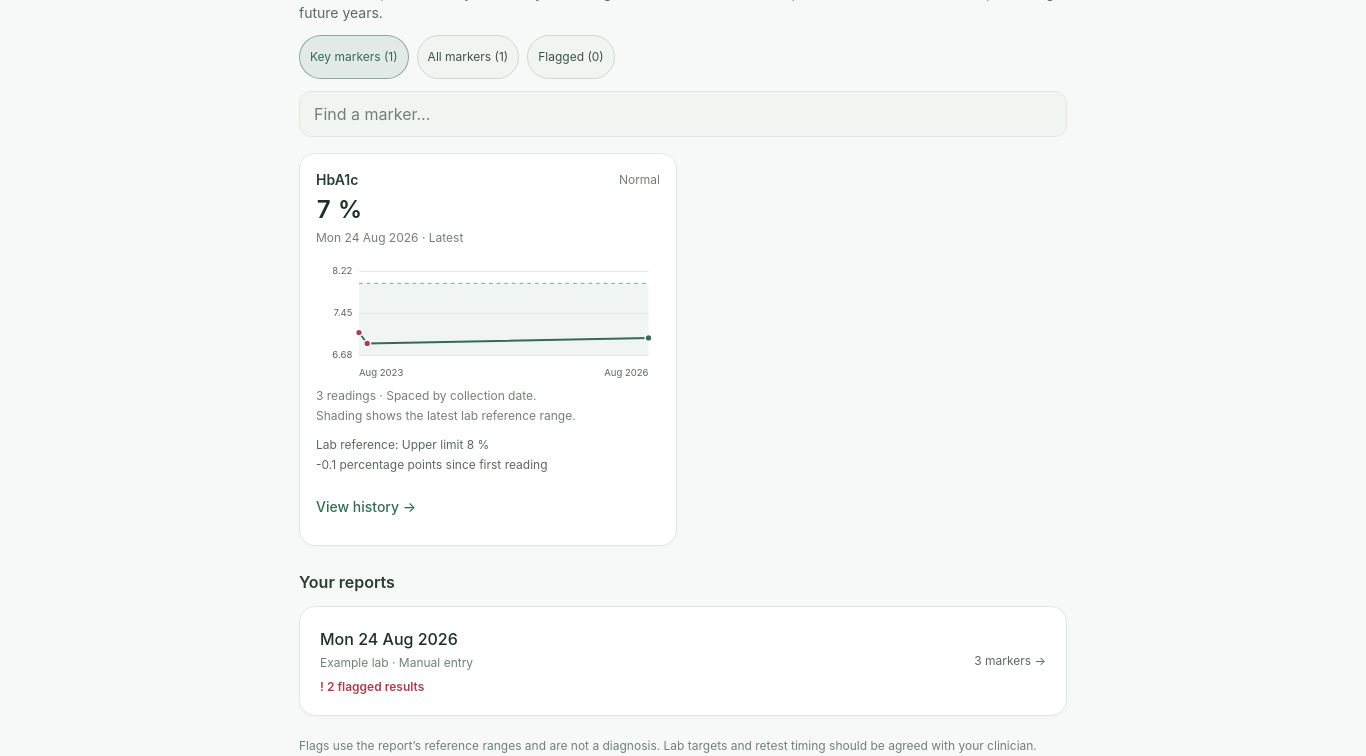
Scenario: multi-year lines use calendar spacing and older readings retain their own lab ranges
(page scrolled)
expect the text "-0.1 percentage points since first reading" is shown: met, box left=316, top=457, right=548, bottom=472
Click the button with aria-label "View HbA1c history": (366,507) left=316, top=485, right=416, bottom=529
(page scrolled)
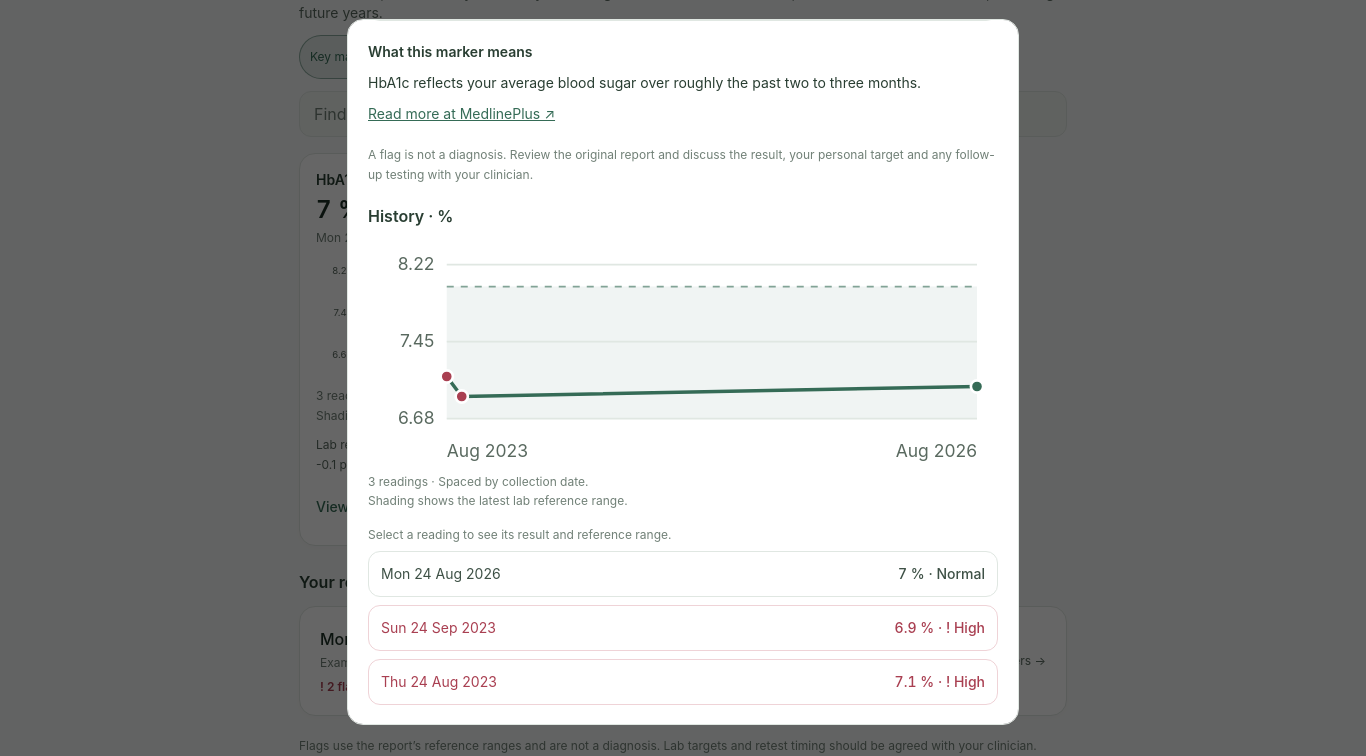
Click the button "Thu 24 Aug 2023 7.1 % · ! High": (439,681) left=368, top=659, right=998, bottom=705
(page scrolled)
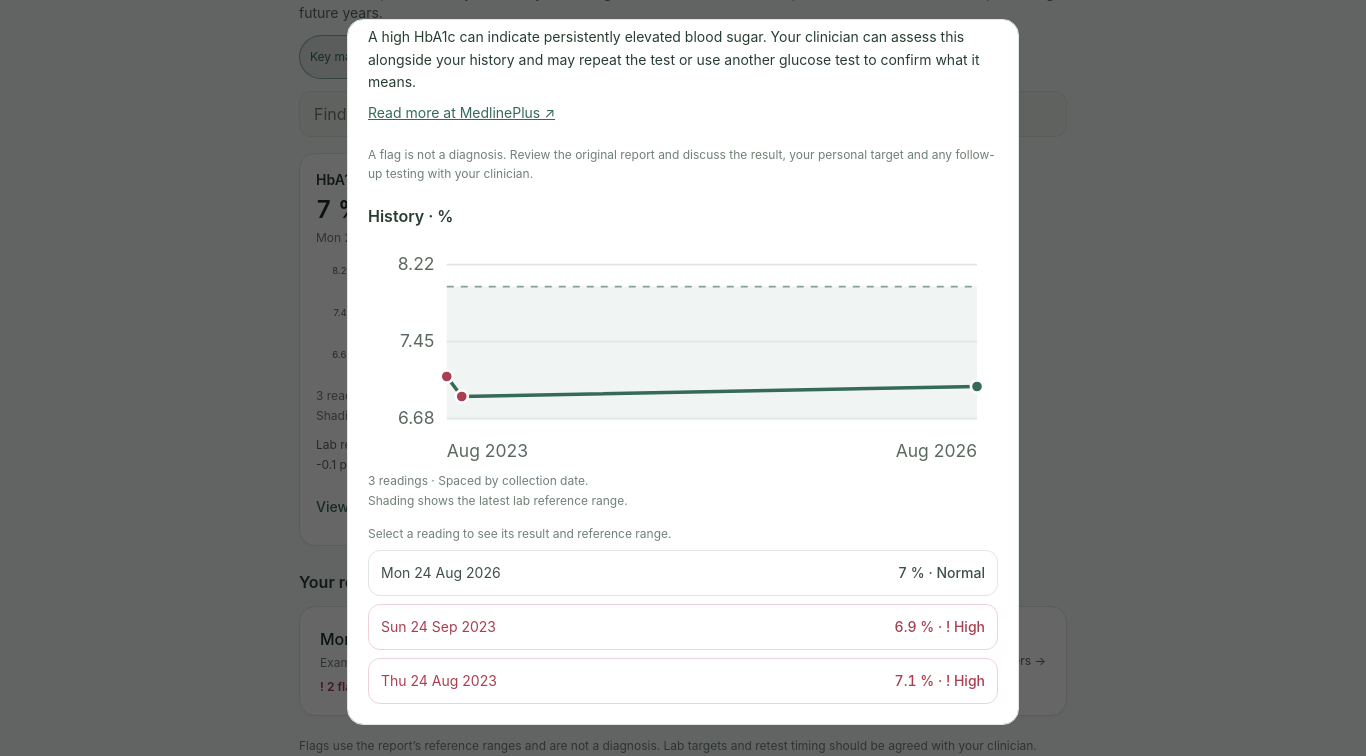
Click the button "Mon 24 Aug 2026 7 % · Normal": (441,573) left=368, top=550, right=998, bottom=596
(page scrolled)
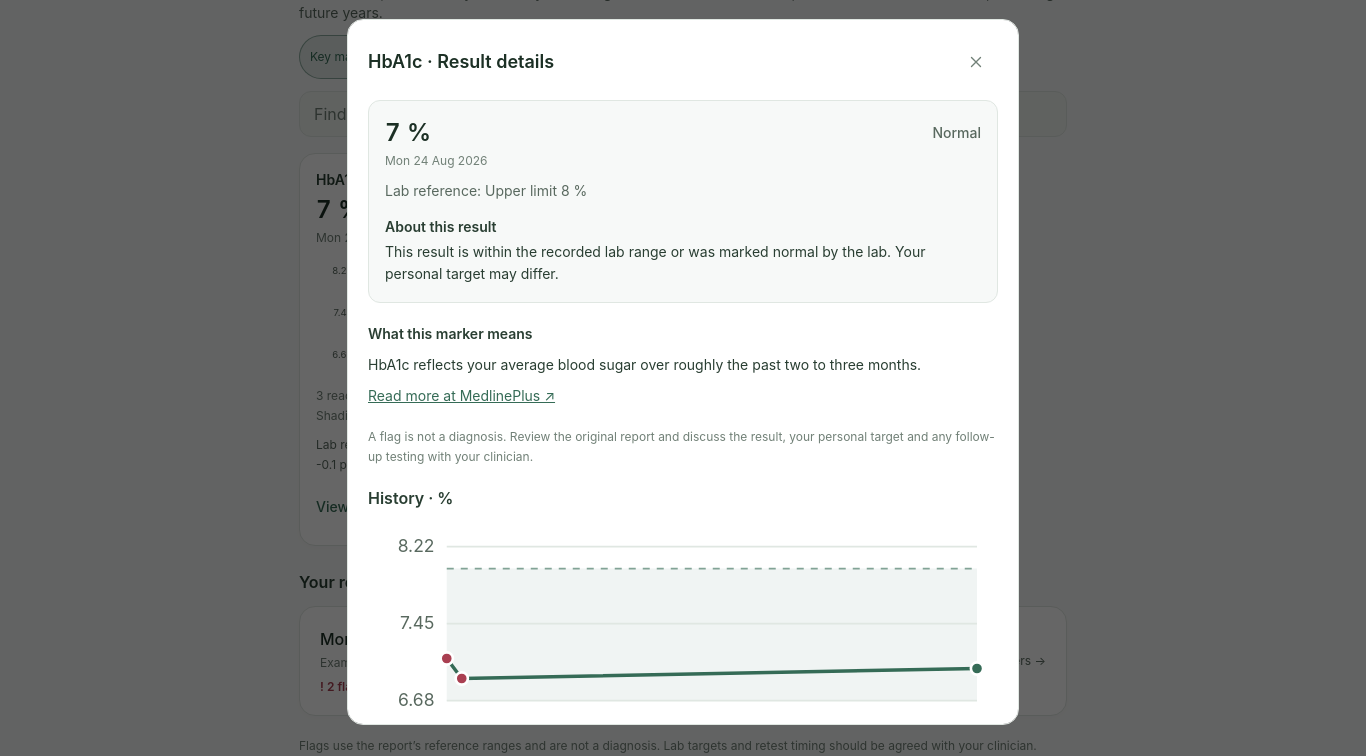
expect the text "Lab reference: Upper limit 8 %" is shown: met, box left=385, top=182, right=587, bottom=199
